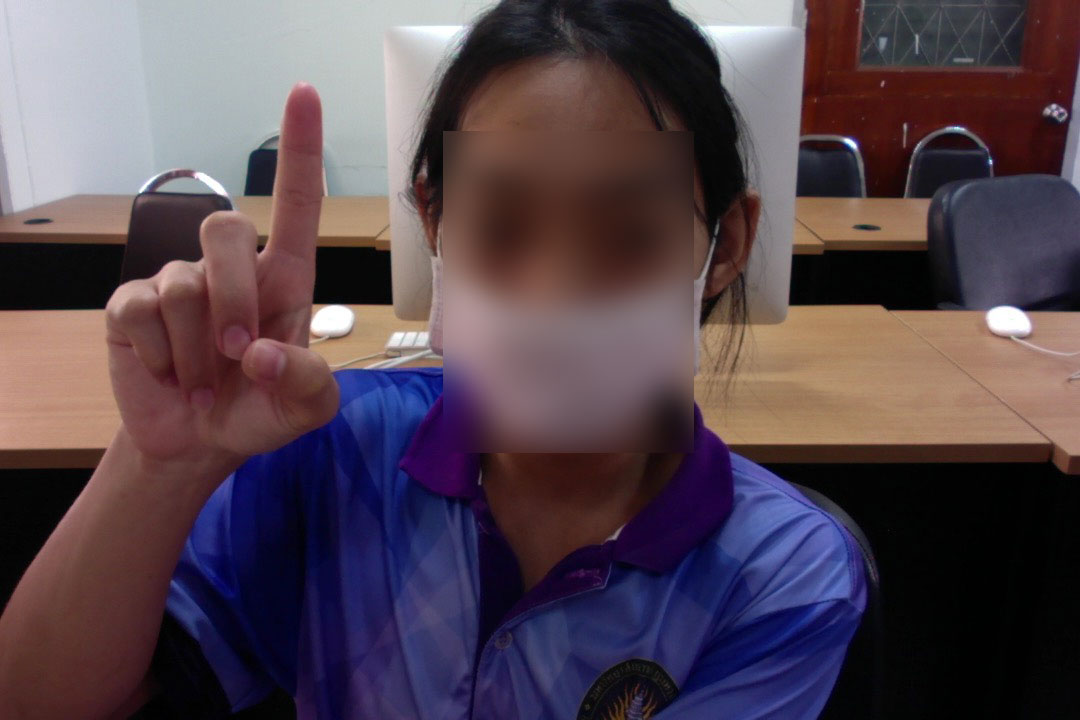dor: (88, 79, 357, 457)
